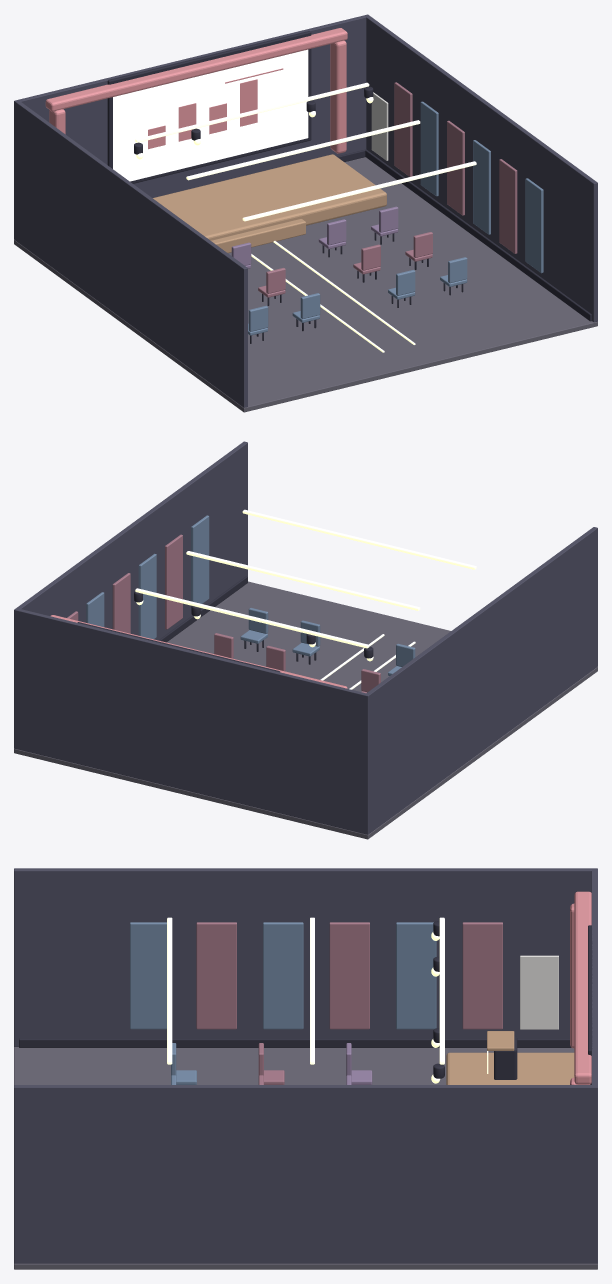
The picture shows the model from 3 angles, top to bottom: view 1: azimuth 30°, elevation 25°; view 2: azimuth 150°, elevation 25°; view 3: azimuth 270°, elevation 25°; orthographic projection. The views are drawn at different scales.
Parts seen in each view (by area): view 1: Presentation_Floor, Presentation_LeftWall, Presentation_RightWall, Presentation_MainScreen_Screen, Presentation_BackWall, Presentation_Stage, Presentation_ProsceniumTop, Presentation_MainScreen_Frame, Presentation_RightBaseboard, Presentation_Proscenium_6.35, Presentation_Acoustic_7.55_0, Presentation_Acoustic_7.55_1 (+11 smaller); view 2: Presentation_BackWall, Presentation_LeftWall, Presentation_RightWall, Presentation_Floor, Presentation_Acoustic_7.55_0, Presentation_Acoustic_7.55_1, Presentation_Acoustic_7.55_2, Presentation_CeilingBar_-4.2, Presentation_CeilingBar_0.2, Presentation_CeilingBar_4.2, Presentation_Acoustic_7.55_3, Presentation_RightBaseboard (+2 smaller); view 3: Presentation_RightWall, Presentation_LeftWall, Presentation_Floor, Presentation_LeftBaseboard, Presentation_Acoustic_-7.55_1, Presentation_Acoustic_-7.55_2, Presentation_Acoustic_-7.55_3, Presentation_Acoustic_-7.55_5, Presentation_Acoustic_-7.55_4, Presentation_Acoustic_-7.55_0, Presentation_Stage, Presentation_ProsceniumTop (+9 smaller).
Part boxes in pixels (x1,y1,x2,y2): Presentation_Floor: [14, 157, 597, 412]; Presentation_LeftWall: [14, 101, 247, 407]; Presentation_RightWall: [366, 14, 597, 322]; Presentation_MainScreen_Screen: [113, 49, 308, 181]; Presentation_BackWall: [14, 14, 369, 240]; Presentation_Stage: [153, 154, 386, 240]; Presentation_ProsceniumTop: [45, 28, 347, 111]; Presentation_MainScreen_Frame: [107, 31, 311, 183]; Presentation_RightBaseboard: [365, 149, 591, 321]; Presentation_Proscenium_6.35: [330, 40, 346, 153]; Presentation_Acoustic_7.55_0: [525, 178, 543, 273]; Presentation_Acoustic_7.55_1: [499, 159, 517, 253]; Presentation_BackWall: [14, 608, 370, 834]; Presentation_LeftWall: [364, 527, 597, 834]; Presentation_RightWall: [14, 441, 247, 749]; Presentation_Floor: [14, 581, 597, 839]; Presentation_Acoustic_7.55_0: [191, 515, 209, 608]; Presentation_Acoustic_7.55_1: [165, 534, 182, 629]; Presentation_Acoustic_7.55_2: [138, 553, 156, 639]; Presentation_CeilingBar_-4.2: [242, 509, 476, 569]; Presentation_CeilingBar_0.2: [186, 551, 420, 610]; Presentation_CeilingBar_4.2: [135, 588, 369, 648]; Presentation_Acoustic_7.55_3: [112, 573, 130, 633]; Presentation_RightBaseboard: [158, 576, 247, 642]; Presentation_RightWall: [14, 1085, 597, 1263]; Presentation_LeftWall: [14, 868, 597, 1046]; Presentation_Floor: [14, 1047, 597, 1269]; Presentation_LeftBaseboard: [19, 1038, 571, 1047]; Presentation_Acoustic_-7.55_1: [196, 922, 236, 1029]; Presentation_Acoustic_-7.55_2: [263, 922, 303, 1029]; Presentation_Acoustic_-7.55_3: [329, 922, 369, 1029]; Presentation_Acoustic_-7.55_5: [462, 922, 502, 1029]; Presentation_Acoustic_-7.55_4: [396, 922, 436, 1029]; Presentation_Acoustic_-7.55_0: [130, 922, 166, 1029]; Presentation_Stage: [446, 1052, 574, 1084]; Presentation_ProsceniumTop: [574, 891, 591, 1084].
Size of the model in its own units: 16 by 6.2 by 18.
